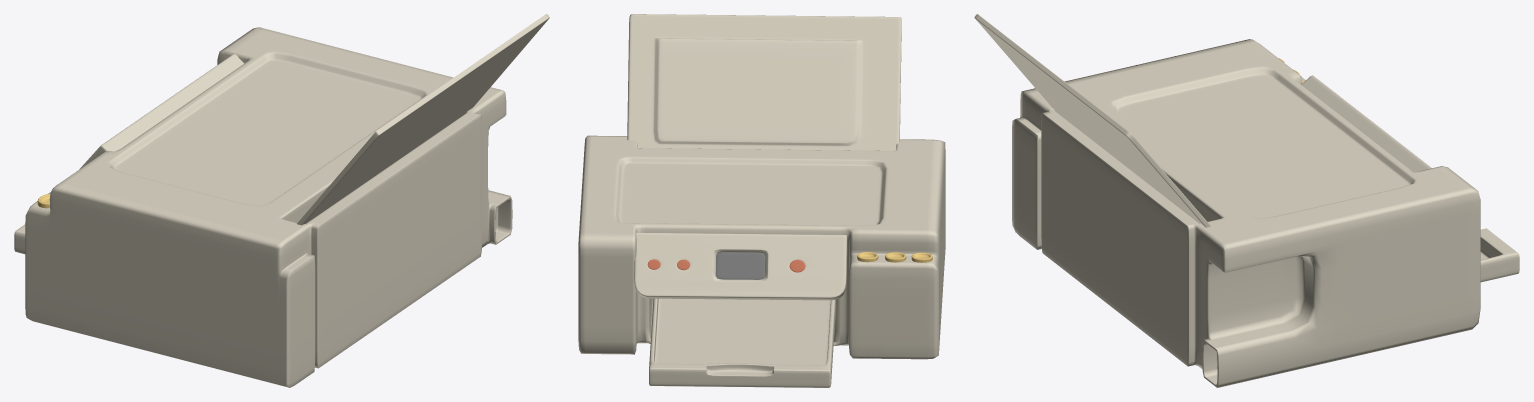
File: printer.fbx
The picture shows the model from 3 angles, left to right: view 1: azimuth 30°, elevation 25°; view 2: azimuth 150°, elevation 25°; view 3: azimuth 270°, elevation 25°; orthographic projection. The views are drawn at different scales.
Visible parts, largest first — view 1: Printer; view 2: Printer; view 3: Printer.
Boxes of the visible parts, x1,y1,x2,y2 form: Printer: (14,14,549,387); Printer: (578,14,945,387); Printer: (974,14,1519,387).
Bounding box in the file's own units: 11.1 × 5.92 × 11.64.
